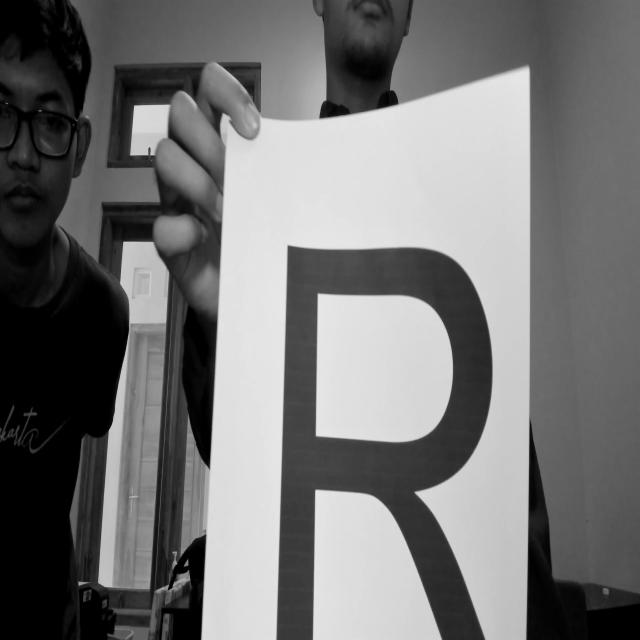r: (269, 222, 506, 640)
